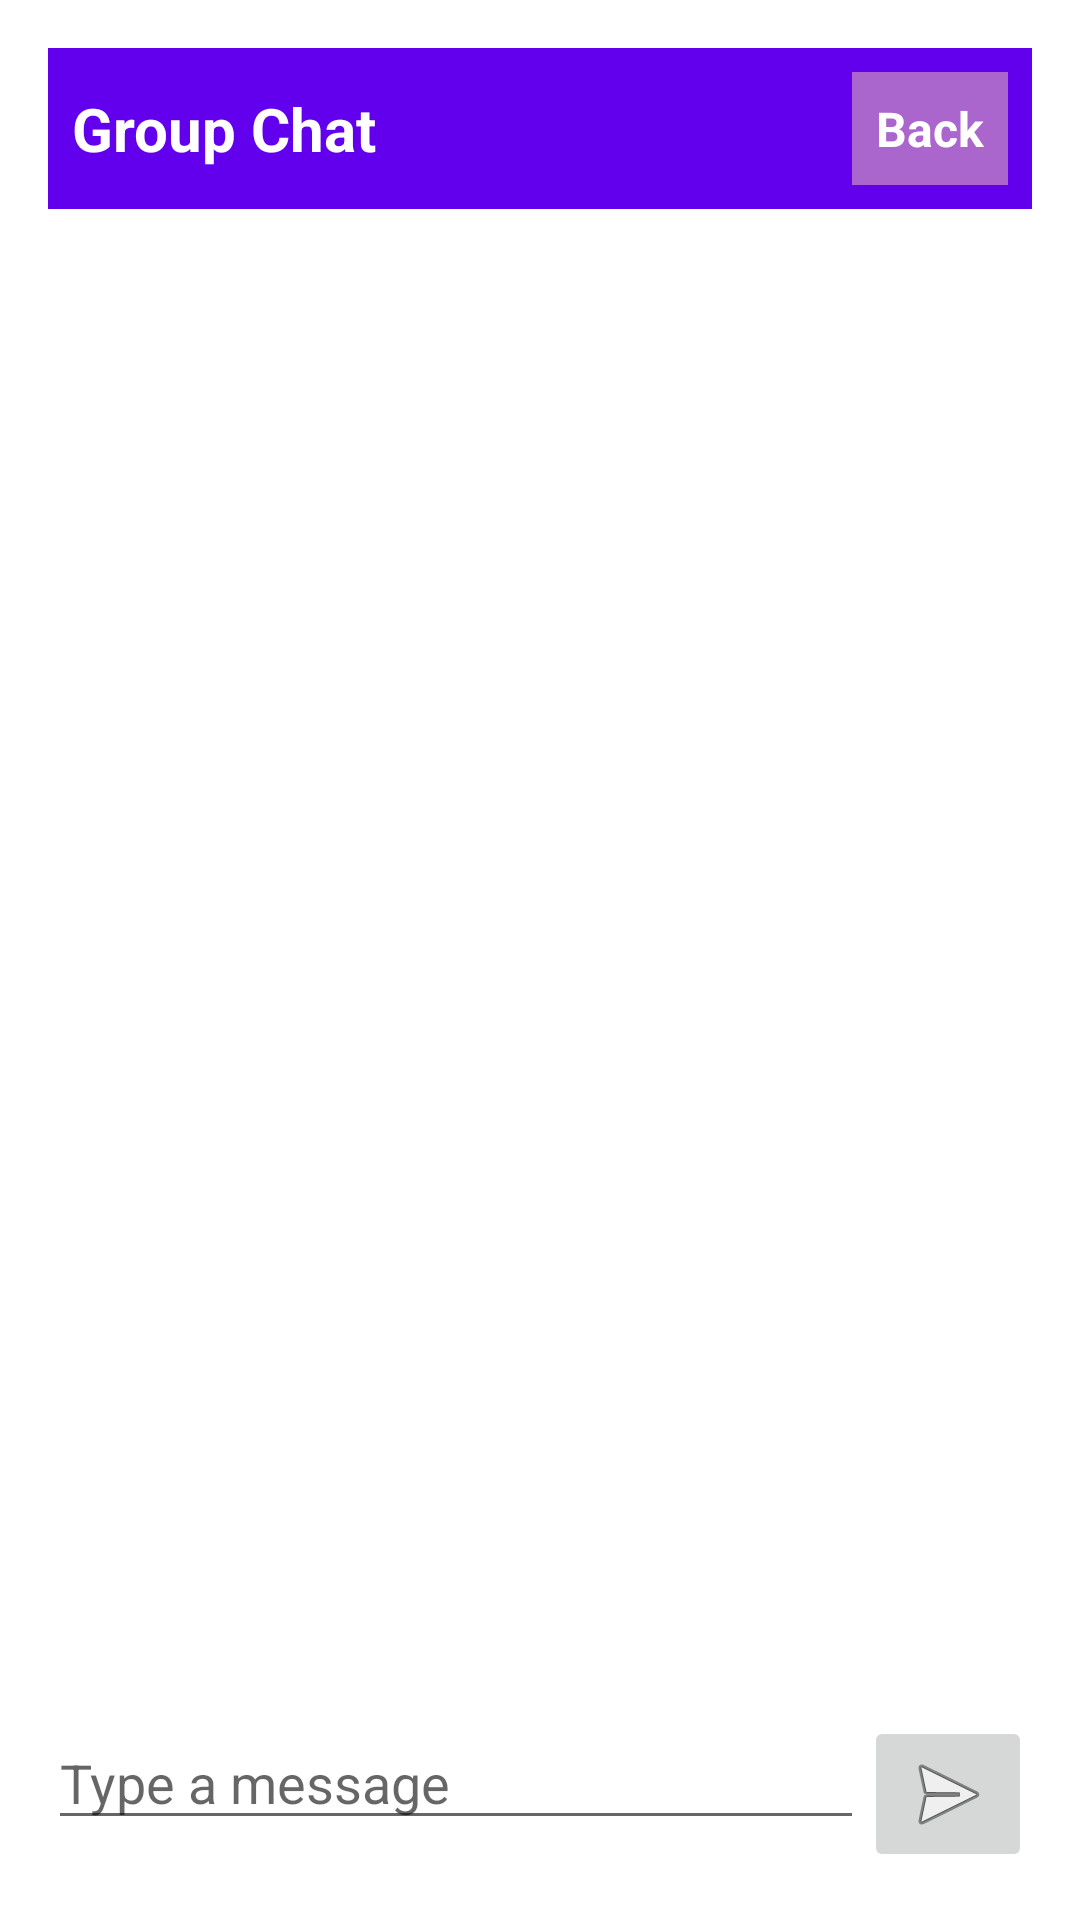

Icons on this 1080w x 1920h Android screen, each with the point to tap as point (x, y):
Send Message: point (948, 1794)
